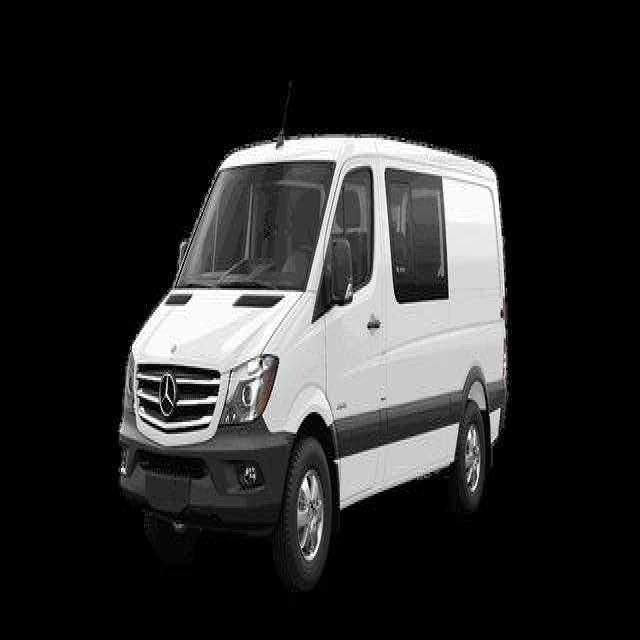Van: (116, 119, 510, 597)
